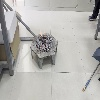fire: (40, 29, 45, 39)
